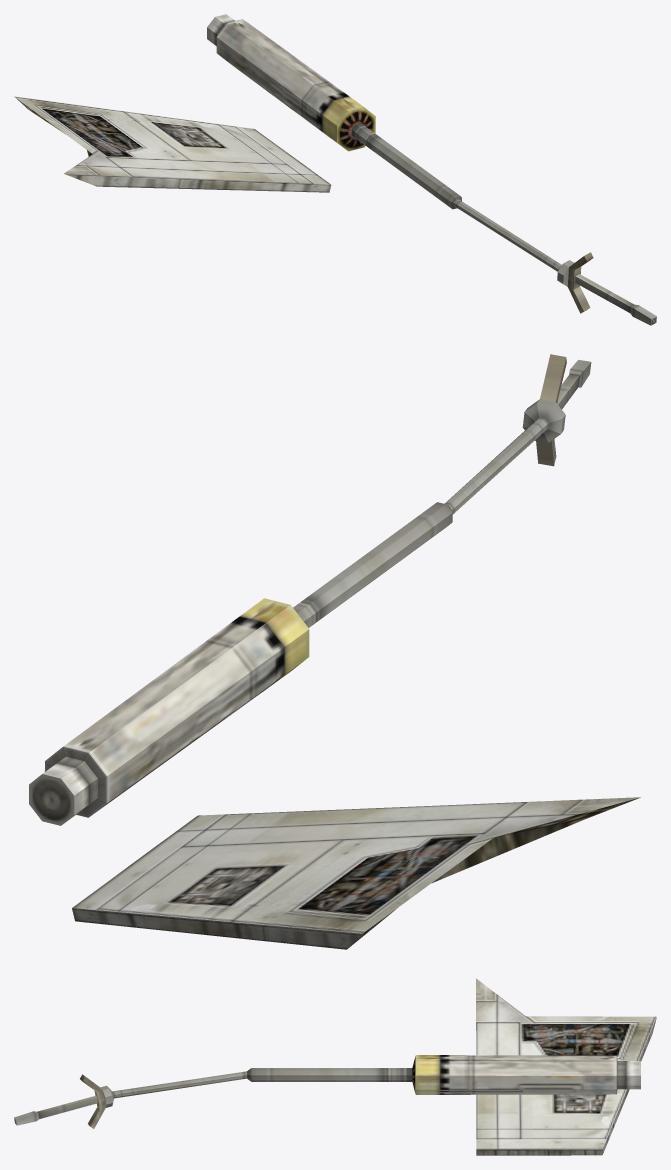
Rendered from X-Wing Chunk 2.obj.
3 renders of one model, top to bottom at view 1: azimuth 30°, elevation 25°; view 2: azimuth 150°, elevation 25°; view 3: azimuth 270°, elevation 25°, orthographic. The views are drawn at different scales.
Parts seen in each view (by area): view 1: chunk2, Laser3; view 2: chunk2, Laser3; view 3: chunk2, Laser3.
Part boxes in pixels (x1,y1,x2,y2): chunk2: (14, 96, 331, 192); Laser3: (207, 14, 656, 325); chunk2: (72, 797, 640, 949); Laser3: (29, 354, 591, 825); chunk2: (476, 978, 656, 1155); Laser3: (14, 1055, 640, 1128).
Size of the model in its own units: 35.43 by 12.08 by 75.28.
